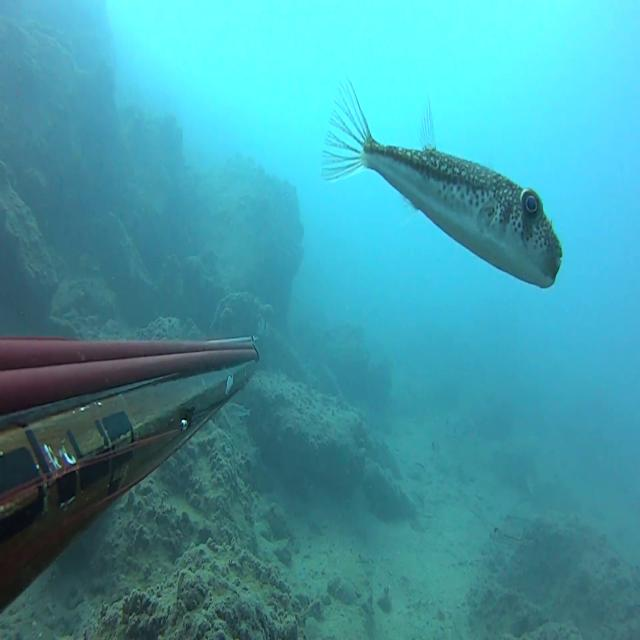Balon Baligi: (320, 76, 564, 291), (489, 525, 536, 552), (227, 402, 251, 419), (505, 513, 529, 524)
